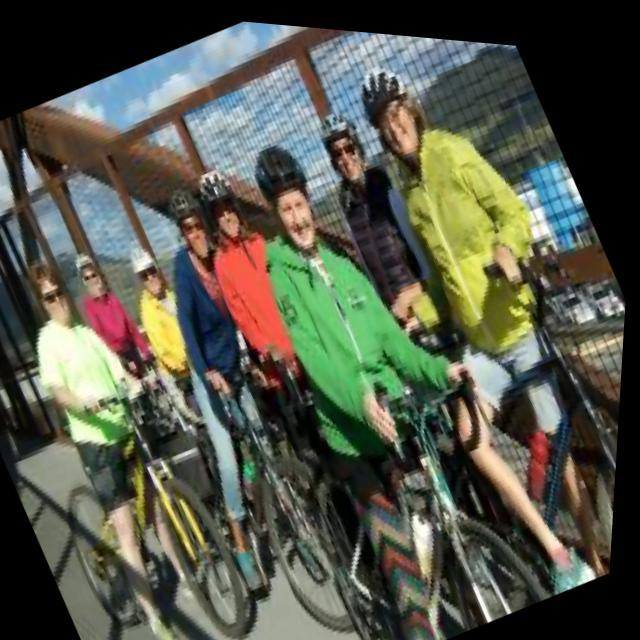Helmet: (353, 64, 439, 172), (247, 136, 323, 257), (193, 163, 250, 250), (315, 104, 373, 188), (163, 176, 218, 260), (123, 236, 180, 303)
Nonhelmet: (22, 250, 80, 333)
